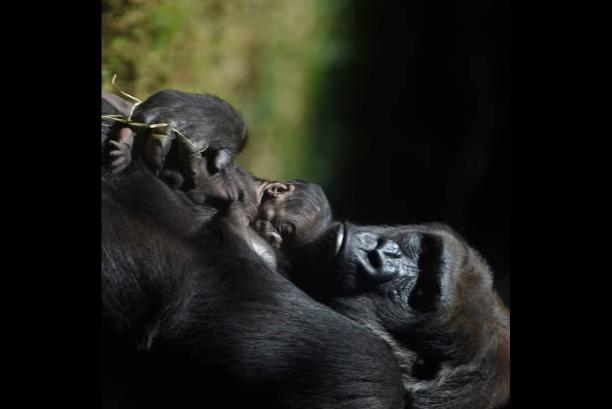gorille_Autres: (104, 121, 505, 409), (214, 166, 350, 276)
